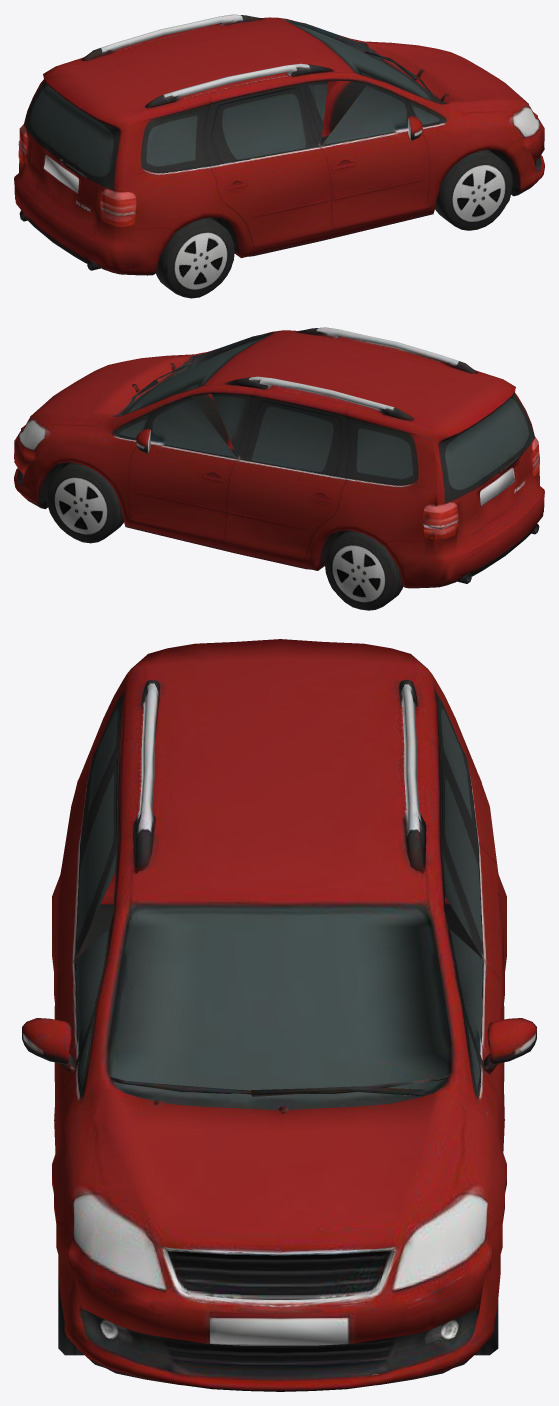
Rendered from traffic_mpv.glb.
The picture shows the model from 3 angles, top to bottom: view 1: azimuth 30°, elevation 25°; view 2: azimuth 150°, elevation 25°; view 3: azimuth 270°, elevation 25°; orthographic projection. The views are drawn at different scales.
Parts seen in each view (by area): view 1: Body, Wheel_FR, Wheel_RR; view 2: Body, Wheel_RL, Wheel_FL; view 3: Body.
Boxes of the visible parts, box(x1,y1,x2,y2) form: Body: box(14, 14, 544, 290); Wheel_FR: box(444, 157, 511, 230); Wheel_RR: box(167, 225, 233, 298); Body: box(14, 327, 544, 605); Wheel_RL: box(326, 537, 392, 610); Wheel_FL: box(47, 470, 115, 543); Body: box(22, 639, 536, 1391).
Bounding box in the file's own units: 1 × 0.3894 × 0.4716.
1 material, 1 textured.
